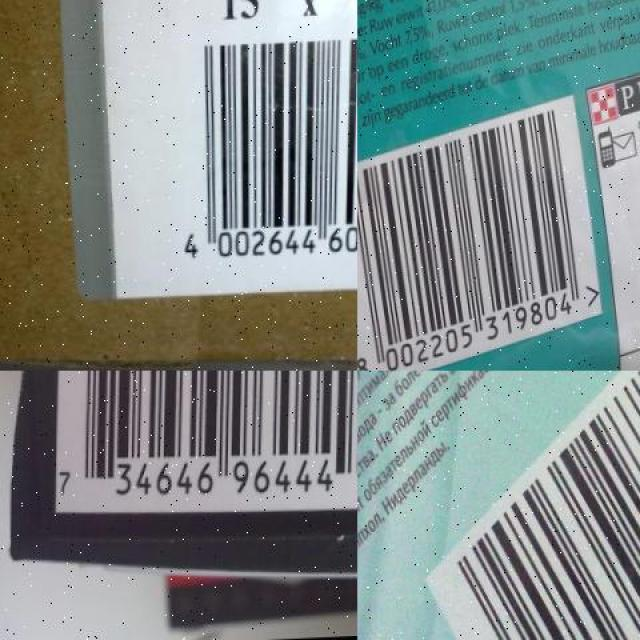Barcode: (358, 97, 606, 371), (421, 370, 639, 640), (163, 22, 357, 286), (58, 371, 358, 524)
